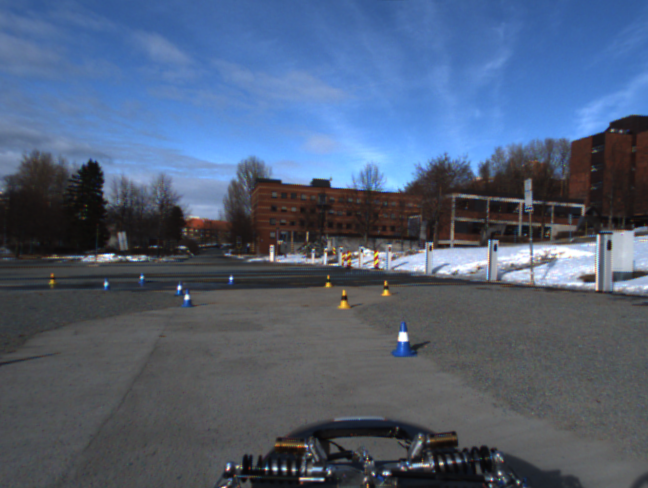cone-small-blue: (392, 321, 418, 357), (181, 289, 193, 307), (173, 281, 185, 297), (103, 277, 110, 292), (138, 273, 146, 285), (227, 274, 235, 285)
cone-small-yellow: (337, 289, 352, 310), (380, 280, 392, 296), (324, 274, 334, 287), (48, 273, 56, 287)
